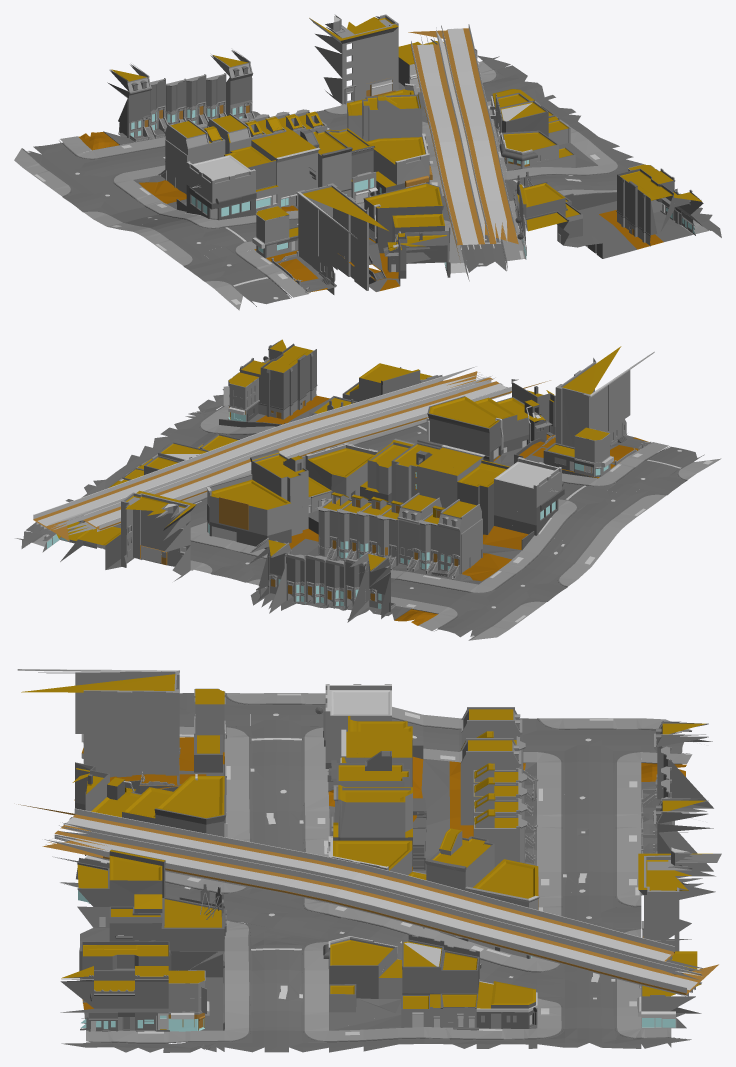
The model's file is brook_n2_3.FBX.
3 views of the same model, one above another, from view 1: azimuth 30°, elevation 25°; view 2: azimuth 150°, elevation 25°; view 3: azimuth 270°, elevation 25° (orthographic). The views are drawn at different scales.
Parts seen in each view (by area): view 1: unnamed, null; view 2: unnamed, null; view 3: unnamed, null.
Part boxes in pixels (x1,y1,x2,y2): unnamed: (14,14,603,310); null: (370,113,721,271); unnamed: (15,346,721,640); null: (126,339,499,497); unnamed: (17,669,721,1048); null: (42,814,422,1052).
Bounding box in the file's own units: 168 × 35.85 × 163.
